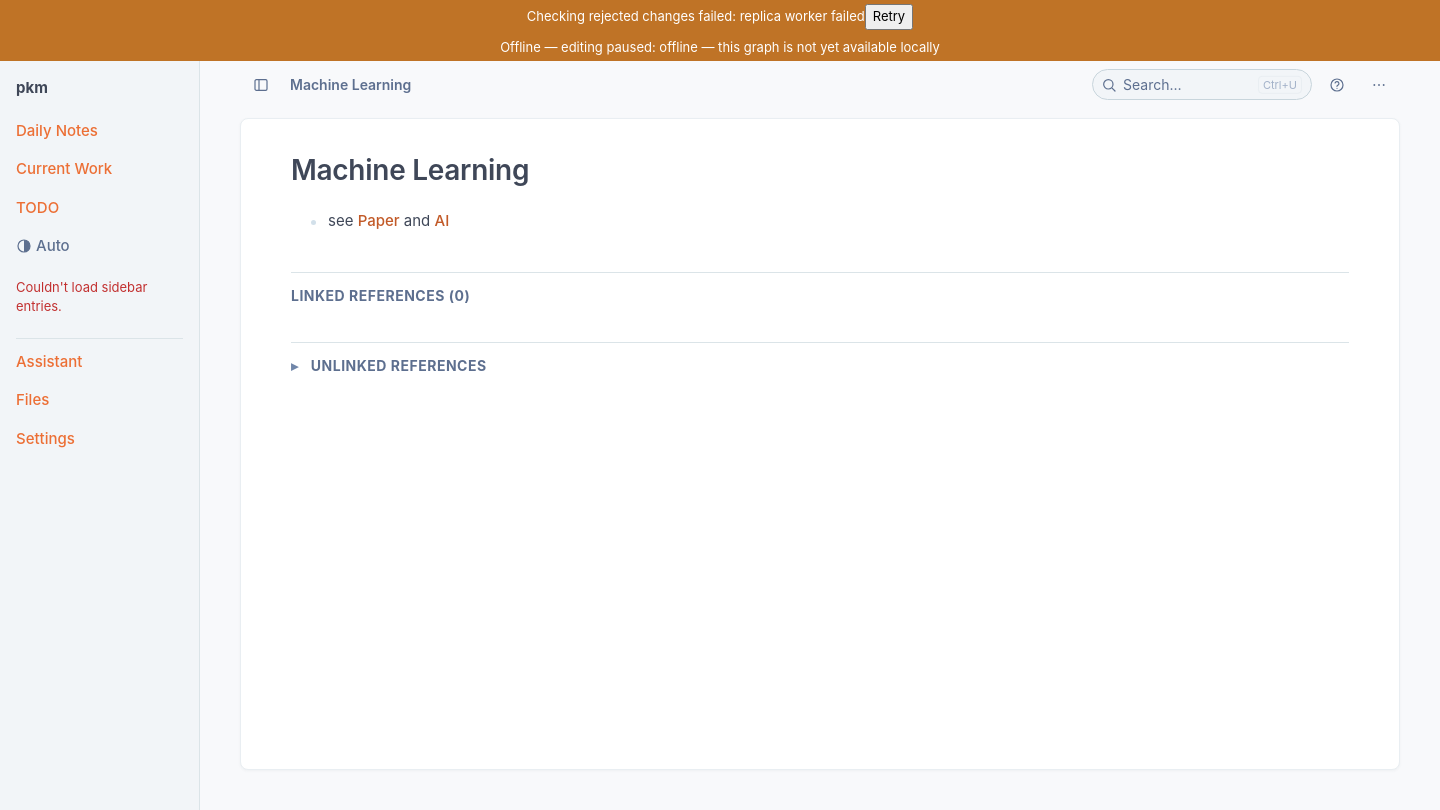
Test case: opening a page in the sidebar reveals a hidden right sidebar
The image size is (1440, 810).
Click the link "Paper". click: (379, 220)
box: [358, 211, 400, 230]
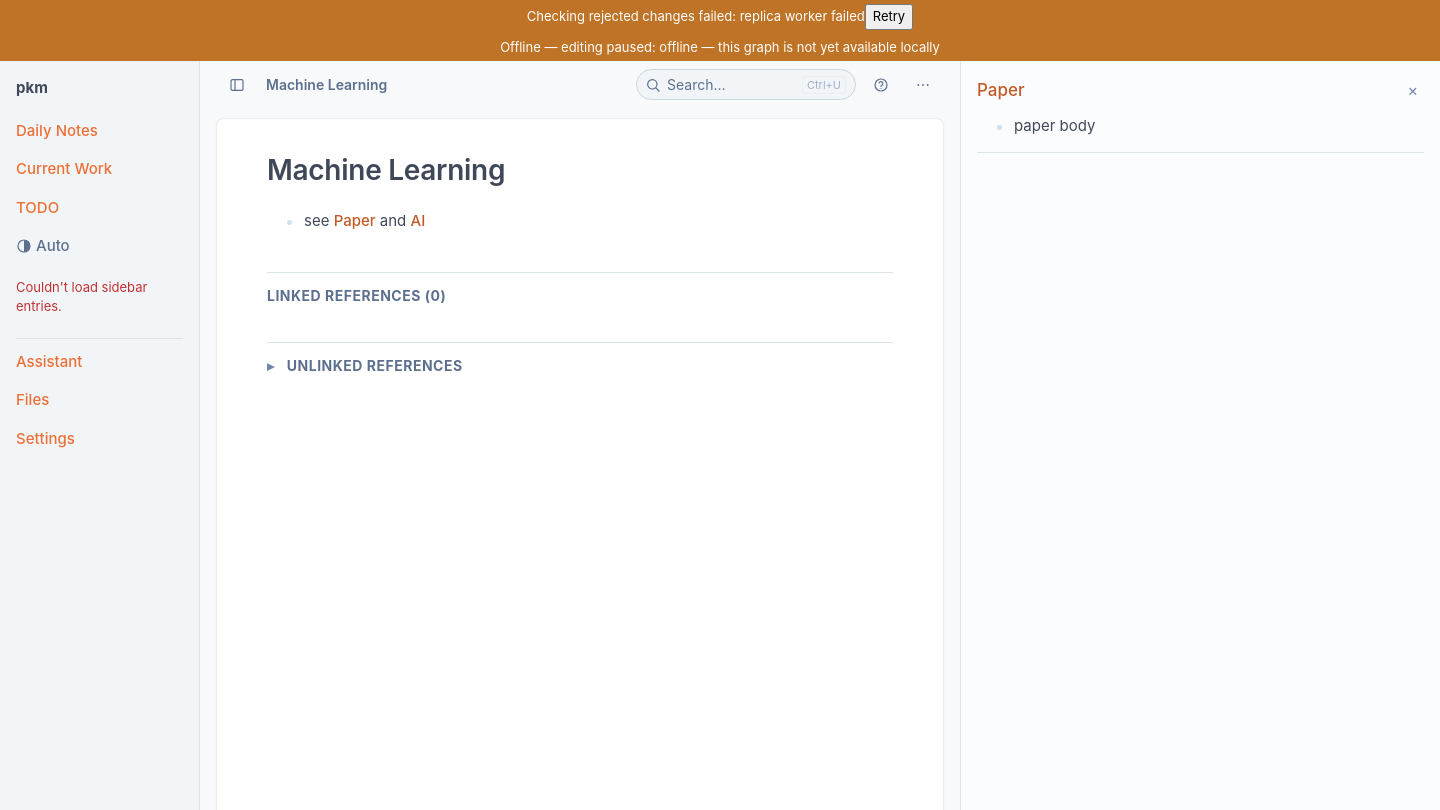
Result: the text "paper body" is shown at [1014, 116, 1095, 134]
Press /
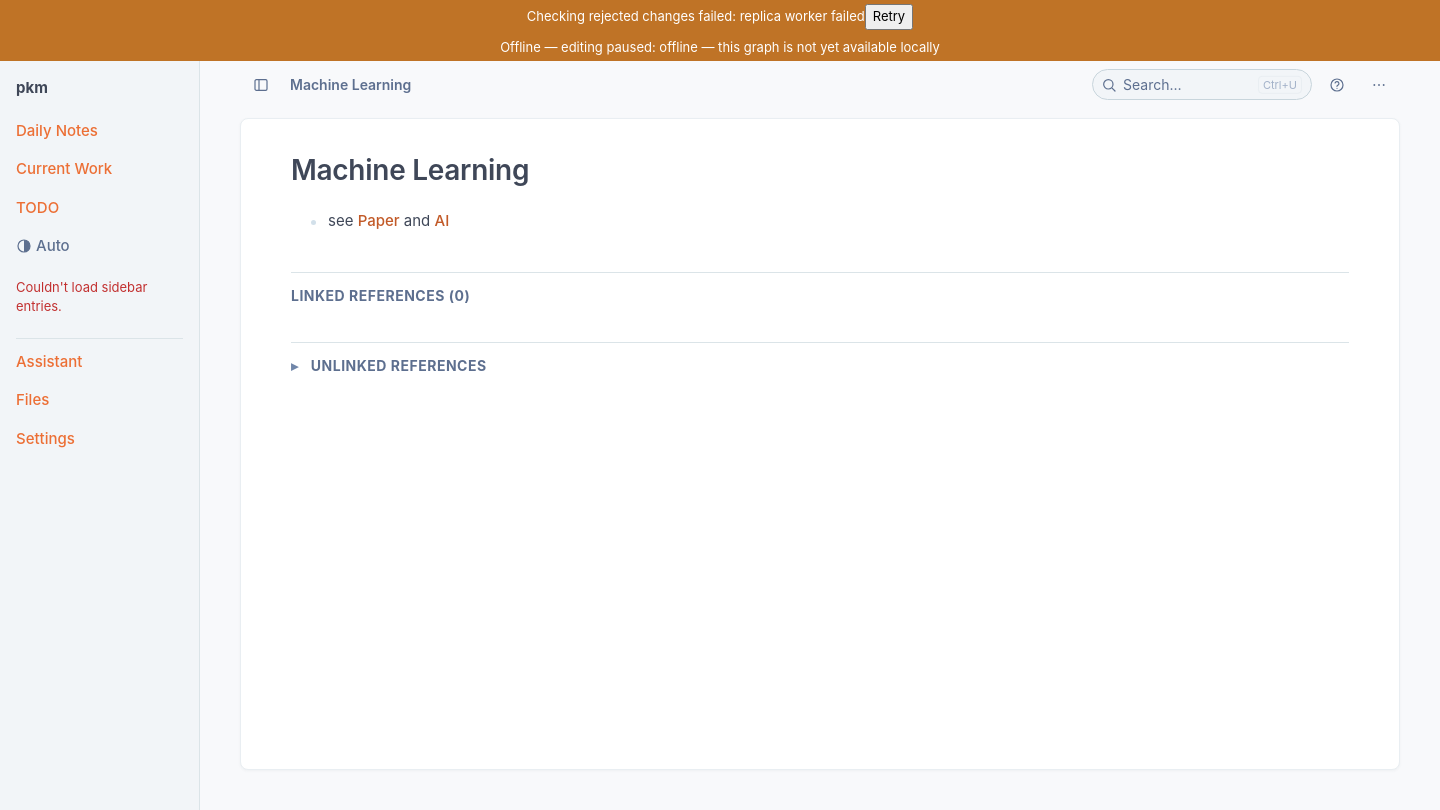
Result: the text "paper body" is gone
Click the link "AI". click: (442, 220)
box: [434, 211, 449, 230]
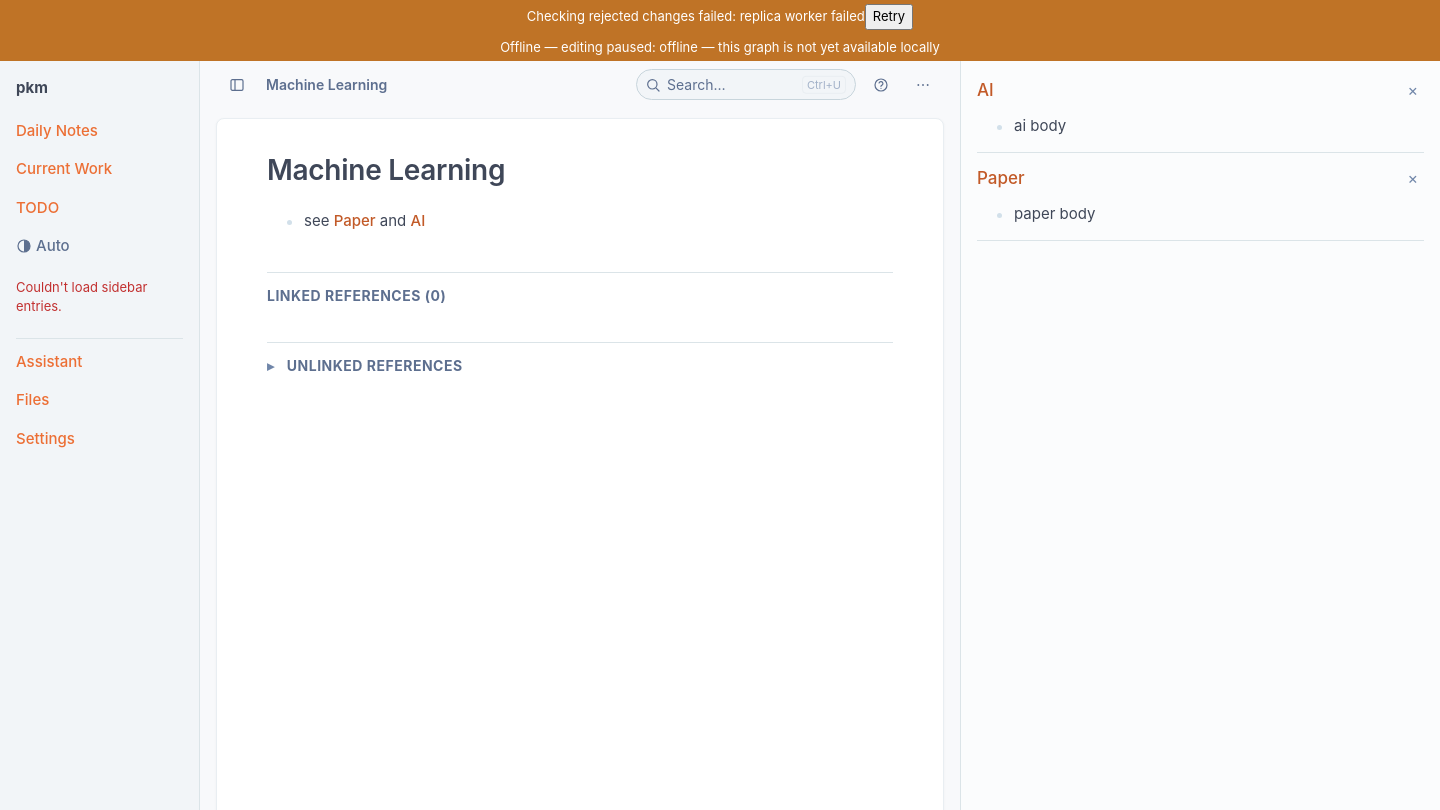
Result: the text "ai body" is shown at [1014, 116, 1066, 134]
Result: the text "paper body" is shown at [1014, 204, 1095, 222]
